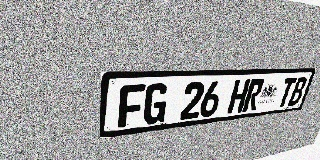2: (180, 81, 205, 120)
6: (199, 81, 224, 118)
B: (287, 77, 308, 106)
F: (118, 84, 146, 128)
G: (142, 83, 169, 125)
H: (227, 79, 251, 114)
R: (242, 79, 265, 112)
T: (276, 77, 297, 108)
